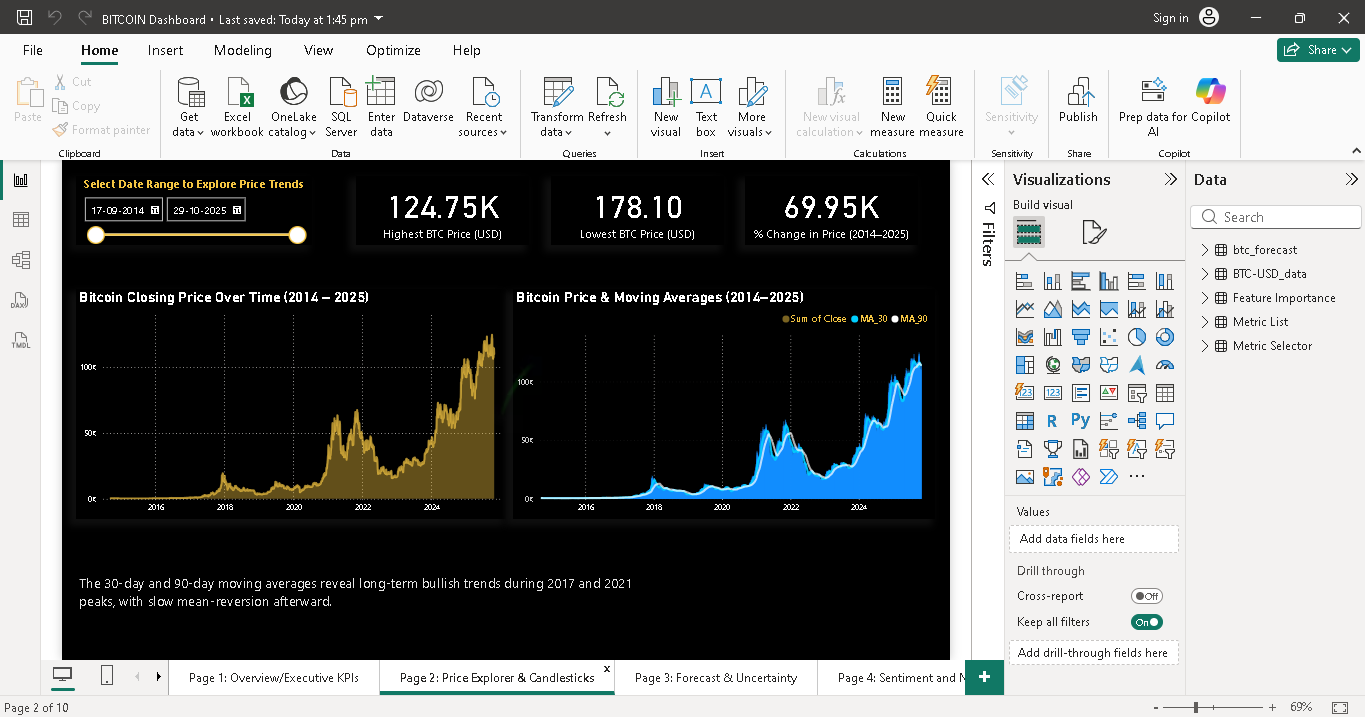

This screenshot's page, from the dashboard's own definition file:
{"tool":"powerbi","page":{"name":"Page 2: Price Explorer & Candlesticks","canvas":[1280,720],"ordinal":1},"visuals":[{"type":"areaChart","title":"Bitcoin Closing Price Over Time (2014 – 2025)","fields":{"Category":["BTC-USD_data.Date"],"Y":["Sum(BTC-USD_data.Close)"]},"box":[20.2,185.8,619.2,331.2],"z":0},{"type":"lineClusteredColumnComboChart","title":"Bitcoin Price & Moving Averages (2014–2025)","fields":{"Category":["BTC-USD_data.Date"],"Y":["Sum(BTC-USD_data.Close)"],"Y2":["BTC-USD_data.MA_30","BTC-USD_data.MA_90"]},"box":[649.4,185.8,607.7,331.2],"z":1000},{"type":"slicer","title":"Select Date Range to Explore Price Trends","fields":{"Values":["BTC-USD_data.Date"]},"box":[20.2,23,339.8,99.4],"z":2000},{"type":"card","title":"Highest Price ($)","fields":{"Values":["BTC-USD_data.Highest Close"]},"box":[423.4,23,249.1,99.4],"z":3000},{"type":"textbox","box":[20.2,574.6,809.3,110.9],"z":4000},{"type":"card","title":"Highest Price ($)","fields":{"Values":["BTC-USD_data.Lowest Close"]},"box":[704.2,23,249.1,99.4],"z":5000},{"type":"card","title":"Highest Price ($)","fields":{"Values":["BTC-USD_data.% Change in Price"]},"box":[983.5,23,249.1,99.4],"z":6000}]}

Visuals, with their boxes on the page's 1280x720 design canvas (x1, y1, x2, y2). These are canvas units, not pixel positions in the 1365x717 screenshot, which may show the page scaled, cropped or inside an application window:
"Bitcoin Closing Price Over Time (2014 – 2025)" areaChart: detection(20, 186, 639, 517)
"Bitcoin Price & Moving Averages (2014–2025)" lineClusteredColumnComboChart: detection(649, 186, 1257, 517)
"Select Date Range to Explore Price Trends" slicer: detection(20, 23, 360, 122)
"Highest Price ($)" card: detection(423, 23, 672, 122)
textbox: detection(20, 575, 830, 686)
"Highest Price ($)" card: detection(704, 23, 953, 122)
"Highest Price ($)" card: detection(984, 23, 1233, 122)
